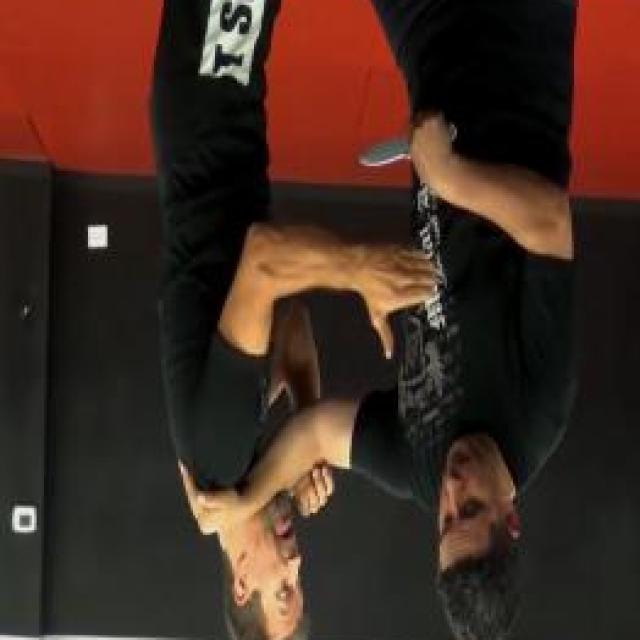knife: (356, 112, 460, 178)
